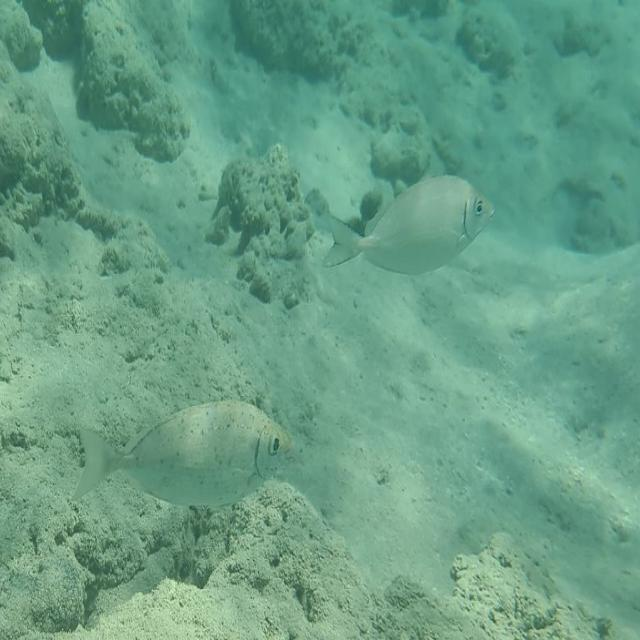Sokar Baligi: (67, 387, 300, 540), (313, 164, 503, 288)
